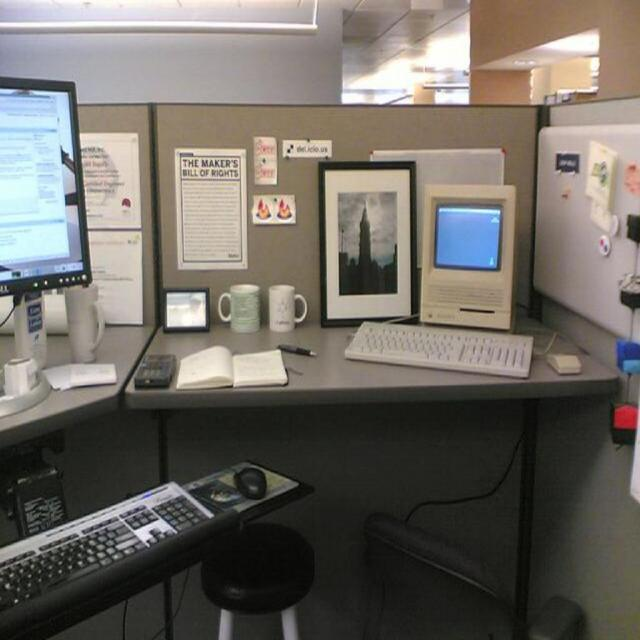chair: (362, 511, 584, 639)
desk: (125, 322, 619, 633)
keyboard: (1, 469, 233, 633), (345, 322, 535, 379)
mouse: (233, 467, 268, 501)
tv: (0, 78, 94, 299), (318, 161, 414, 323), (419, 184, 516, 332)
